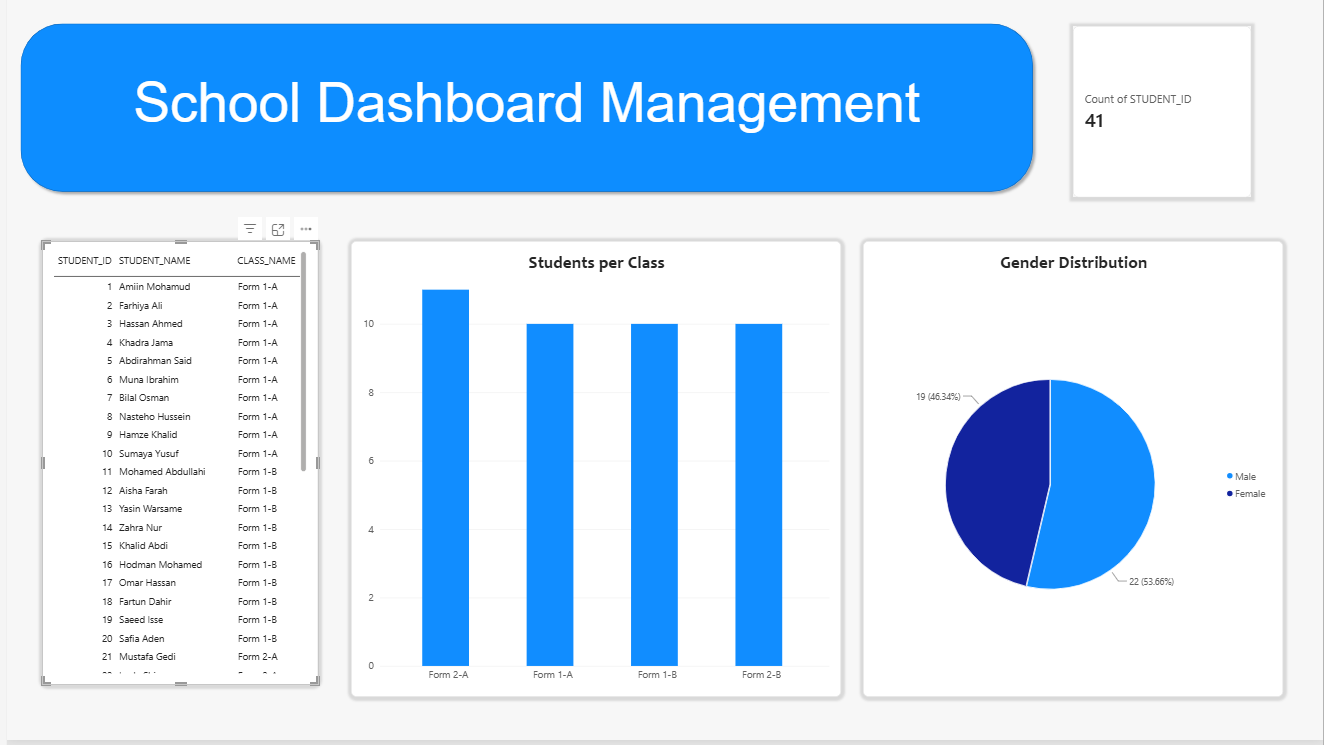

The dashboard page shown, as its layout file describes it:
{"tool":"powerbi","page":{"name":"Page 1","canvas":[1920,1080],"ordinal":0},"visuals":[{"type":"tableEx","fields":{"Values":["JOINS QUERY.STUDENT_ID","JOINS QUERY.STUDENT_NAME","JOINS QUERY.CLASS_NAME"]},"box":[51.7,351.7,403.3,648.3],"z":0},{"type":"clusteredColumnChart","title":"Students per Class","fields":{"Category":["JOINS QUERY.CLASS_NAME"],"Y":["CountNonNull(JOINS QUERY.STUDENT_ID)"]},"box":[501.7,351.7,715,665],"z":1000},{"type":"pieChart","title":"Gender Distribution","fields":{"Category":["JOINS QUERY.GENDER"],"Y":["CountNonNull(JOINS QUERY.STUDENT_ID)"]},"box":[1248.3,351.7,613.3,665],"z":2000},{"type":"shape","box":[11.7,26.7,1493.3,261.7],"z":3000},{"type":"textbox","box":[135,105,1245,300],"z":4000},{"type":"cardVisual","title":"Total Students","fields":{"Data":["CountNonNull(JOINS QUERY.STUDENT_ID)"]},"box":[1555,38.3,260,250],"z":4001}]}

Visuals, with their boxes in screenshot pixels (x1, y1, x2, y2), scaled from the page's 1920x1080 canvas onto the 1324x745 screenshot:
tableEx - JOINS QUERY.STUDENT_ID x JOINS QUERY.STUDENT_NAME: left=36, top=243, right=314, bottom=690
"Students per Class" clusteredColumnChart: left=346, top=243, right=839, bottom=701
"Gender Distribution" pieChart: left=861, top=243, right=1284, bottom=701
shape: left=8, top=18, right=1038, bottom=199
textbox: left=93, top=72, right=952, bottom=279
"Total Students" cardVisual: left=1072, top=26, right=1252, bottom=199
